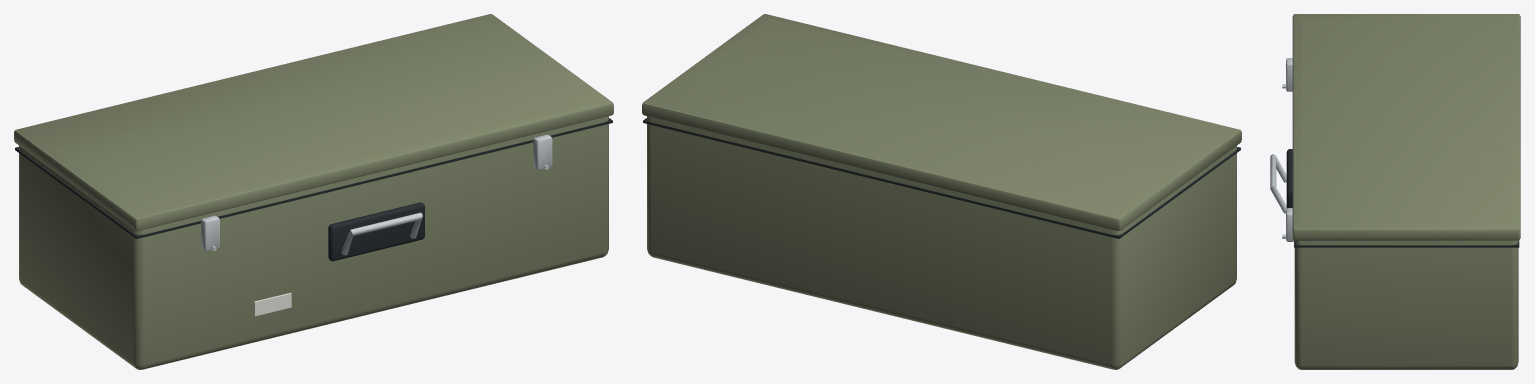
File: ob_hand_tool_chest.glb
3 views of the same model, side by side, from view 1: azimuth 30°, elevation 25°; view 2: azimuth 150°, elevation 25°; view 3: azimuth 270°, elevation 25° (orthographic). The views are drawn at different scales.
Parts seen in each view (by area): view 1: ob_hand_tool_chest; view 2: ob_hand_tool_chest; view 3: ob_hand_tool_chest.
Boxes of the visible parts, x1,y1,x2,y2 form: ob_hand_tool_chest: (14, 14, 613, 369); ob_hand_tool_chest: (642, 14, 1241, 369); ob_hand_tool_chest: (1270, 14, 1520, 369).
Size of the model in its own units: 0.9 by 0.28 by 0.44.
